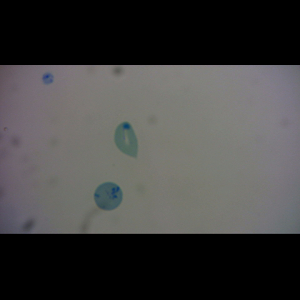aggregate reticulocyte: (93, 181, 124, 212)
erythrocyte: (112, 120, 140, 160)
